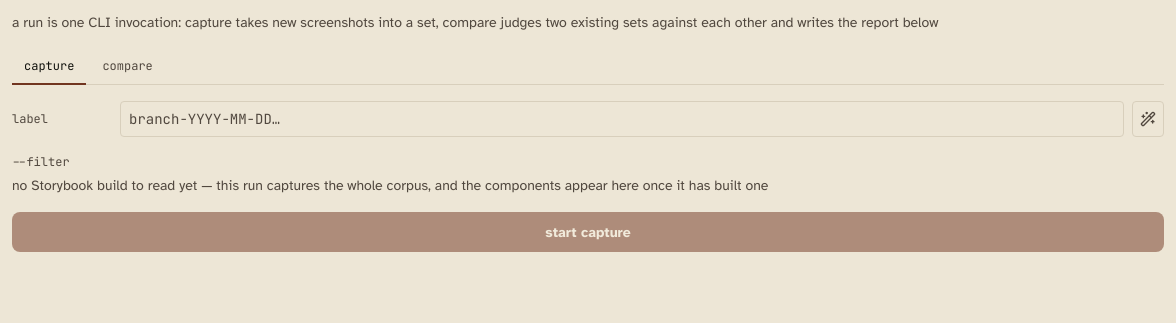
Test: the label wand › replaces a label the reviewer had already typed
The image size is (1176, 323).
In the field labelled "label": (622, 119) x1=120 y1=101 x2=1124 y2=137, type "typed-by-hand"
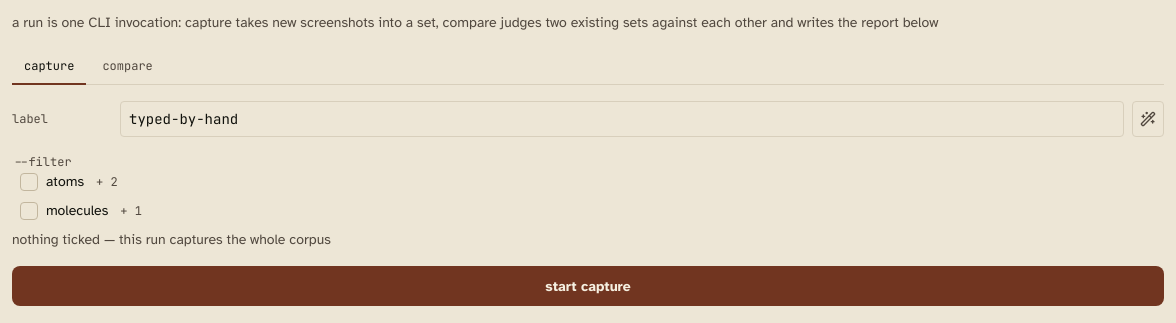
Click the button named "suggest a label": (1148, 119) x1=1132 y1=101 x2=1164 y2=137
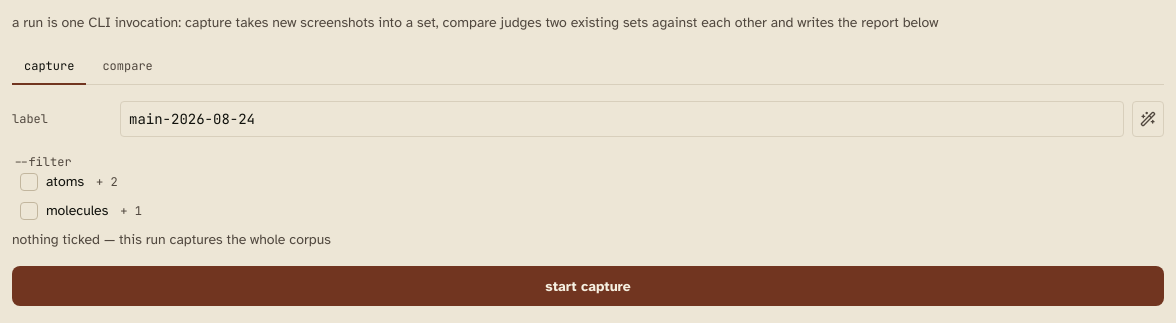
Result: the field labelled "label" holds "main-2026-08-24" at x1=120 y1=101 x2=1124 y2=137
